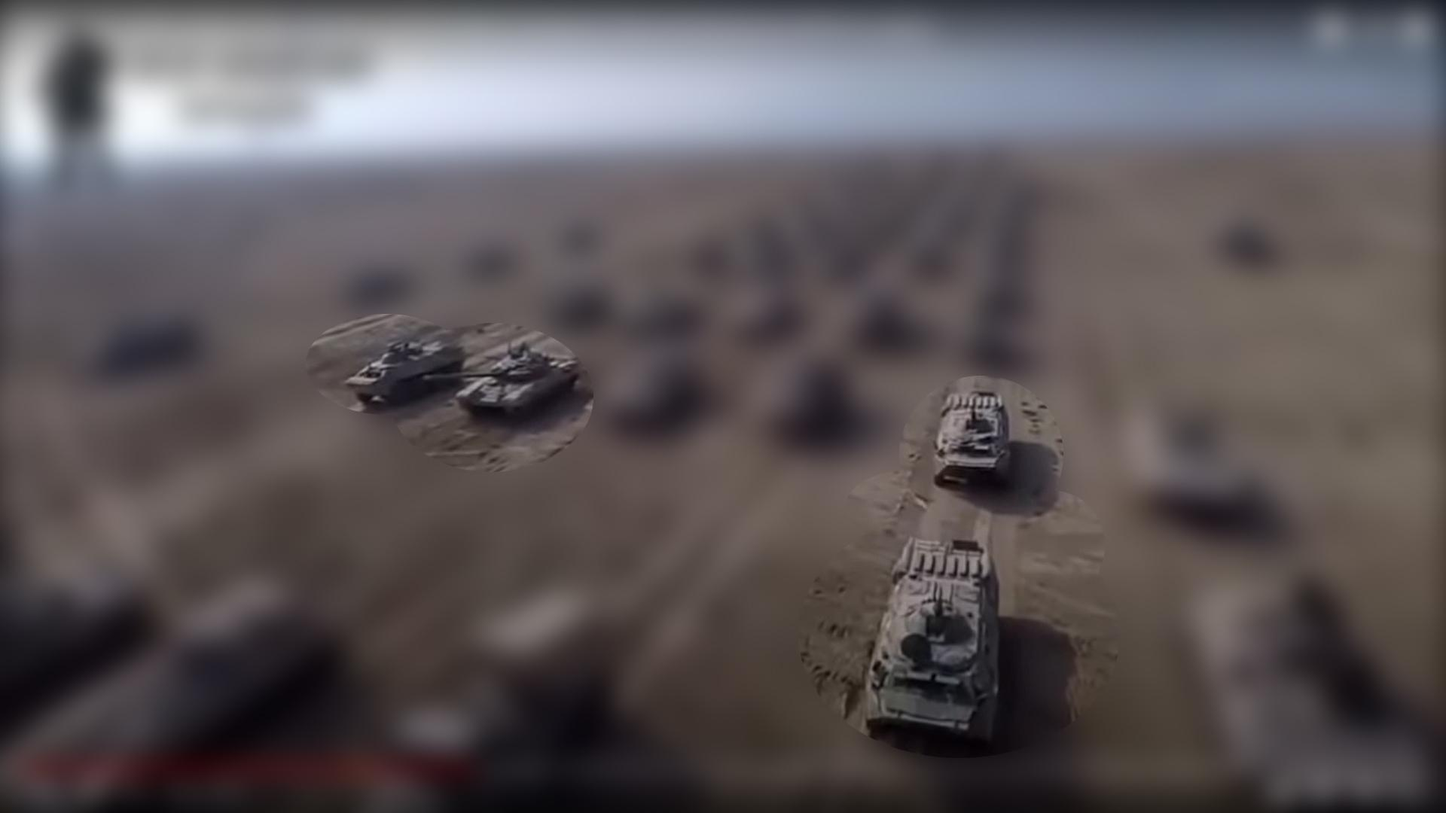armored_car: (850, 535, 1002, 760), (928, 384, 1017, 496), (344, 339, 452, 405)
tank: (453, 343, 585, 421)
